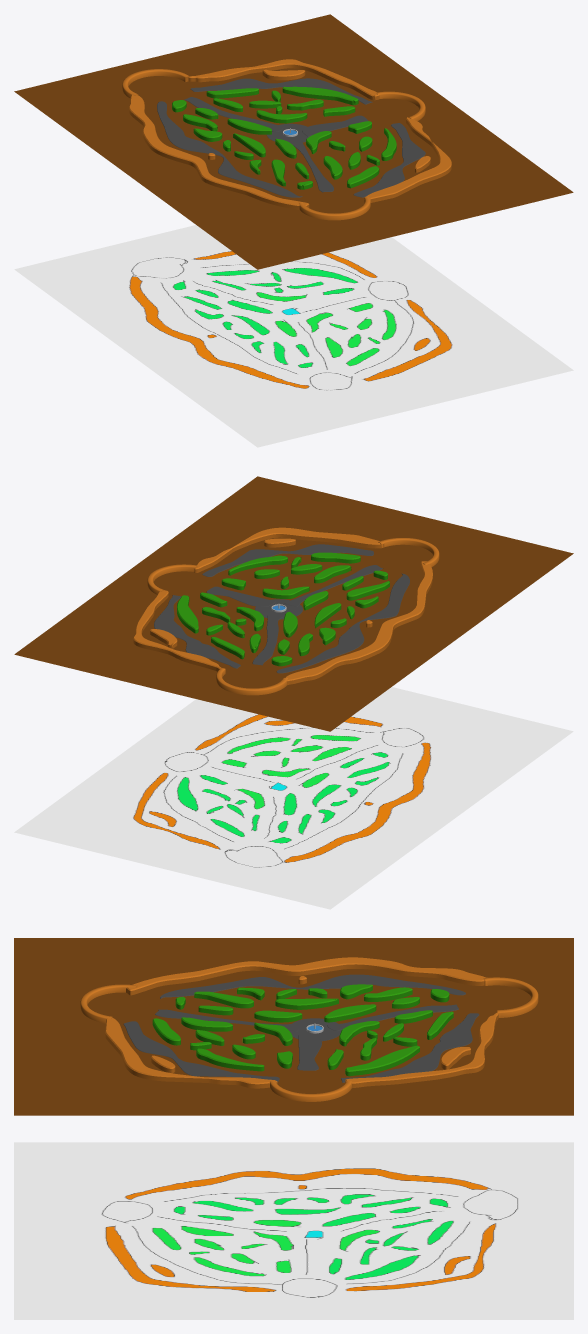
File: moba 3v3.fbx
3 renders of one model, top to bottom at view 1: azimuth 30°, elevation 25°; view 2: azimuth 150°, elevation 25°; view 3: azimuth 270°, elevation 25°, orthographic. The views are drawn at different scales.
Visible parts, largest first — view 1: Plane, floor, Connect_8, Connect_10, Connect, Connect_9, Connect_3, Connect_5, Connect_2, Connect_4, Connect_7, Connect_6 (+2 smaller); view 2: Plane, floor, Connect_8, Connect_9, Connect, Connect_10, Connect_2, Connect_4, Connect_5, Connect_3, Connect_7, Connect_6 (+2 smaller); view 3: Plane, floor, Connect_8, Connect, Connect_9, Connect_10, Connect_2, Connect_3, Connect_5, Connect_4, Connect_7, Connect_6 (+4 smaller).
Boxes of the visible parts, x1,y1,x2,y2 form: Plane: (14, 225, 573, 447); floor: (14, 14, 573, 269); Connect_8: (172, 100, 312, 189); Connect_10: (206, 86, 358, 123); Connect: (129, 94, 309, 209); Connect_9: (306, 121, 396, 188); Connect_3: (188, 59, 379, 100); Connect_5: (157, 101, 302, 197); Connect_2: (364, 117, 451, 202); Connect_4: (184, 97, 368, 192); Connect_7: (190, 78, 372, 104); Connect_6: (353, 123, 425, 197); Plane: (14, 687, 573, 909); floor: (14, 476, 573, 731); Connect_8: (271, 570, 389, 666); Connect_9: (221, 552, 360, 598); Connect: (285, 561, 432, 685); Connect_10: (177, 592, 263, 659); Connect_2: (194, 527, 384, 572); Connect_4: (206, 565, 382, 665); Connect_5: (276, 573, 409, 673); Connect_3: (133, 590, 221, 671); Connect_7: (154, 595, 240, 668); Connect_6: (202, 544, 373, 576); Plane: (14, 1142, 573, 1319); floor: (14, 938, 573, 1115); Connect_8: (175, 984, 449, 1022); Connect: (126, 957, 487, 995); Connect_9: (152, 1017, 292, 1071); Connect_10: (327, 1010, 453, 1076); Connect_2: (105, 1017, 277, 1088); Connect_3: (345, 1012, 498, 1087); Connect_5: (160, 974, 465, 998); Connect_4: (155, 1004, 458, 1070); Connect_7: (341, 1013, 479, 1082); Connect_6: (123, 1021, 279, 1081).
Bounding box in the file's own units: 732 × 405 × 976.
7 materials, 1 textured.
